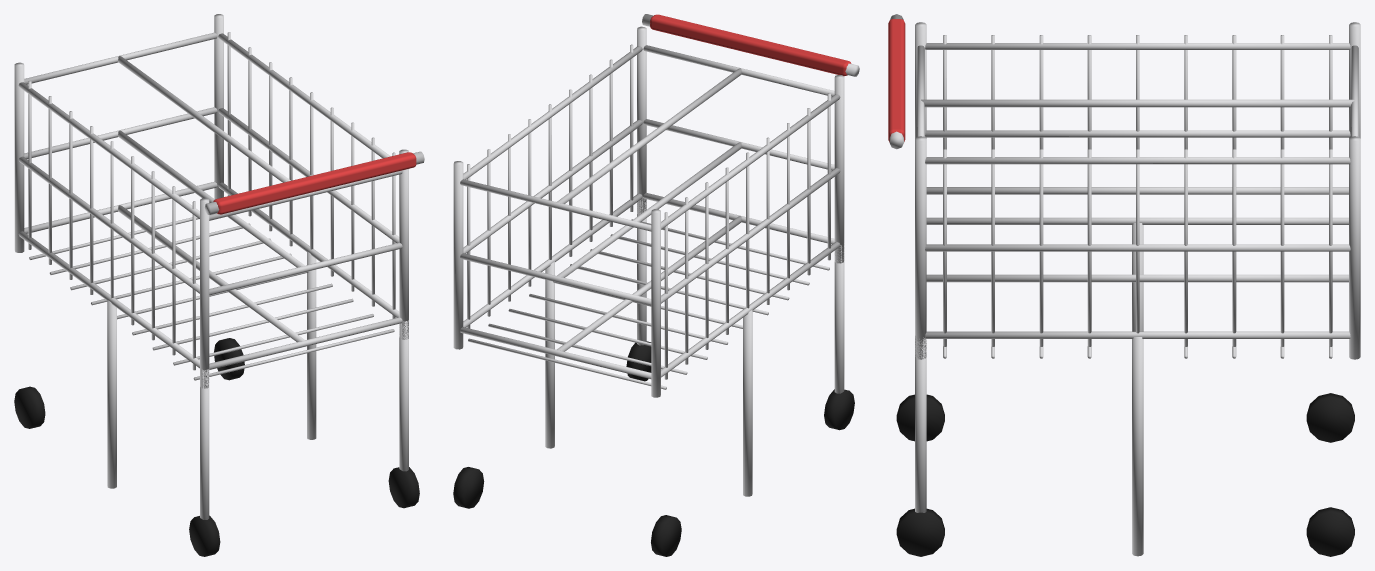
3 renders of one model, left to right at view 1: azimuth 30°, elevation 25°; view 2: azimuth 150°, elevation 25°; view 3: azimuth 270°, elevation 25°, orthographic. The views are drawn at different scales.
Parts seen in each view (by area): view 1: cart, handle, wheel.001, wheel.002, wheel, wheel.003; view 2: cart, handle, wheel.003, wheel.001, wheel, wheel.002; view 3: cart, handle, wheel.003, wheel.001, wheel.002, wheel.
Part boxes in pixels (x1,y1,x2,y2): cart: (14, 14, 424, 519); handle: (213, 152, 416, 214); wheel.001: (14, 386, 45, 428); wheel.002: (388, 467, 419, 508); wheel: (189, 515, 220, 556); wheel.003: (214, 338, 244, 380); cart: (453, 14, 859, 496); handle: (650, 14, 851, 76); wheel.003: (453, 467, 484, 508); wheel.001: (651, 515, 681, 556); wheel: (824, 389, 854, 430); wheel.002: (626, 341, 651, 381); cart: (889, 14, 1360, 556); handle: (888, 19, 905, 142); wheel.003: (1306, 507, 1354, 556); wheel.001: (1306, 393, 1354, 442); wheel.002: (896, 508, 944, 556); wheel: (896, 394, 944, 441).
Size of the model in its own units: 0.6 by 0.9675 by 0.9795.
